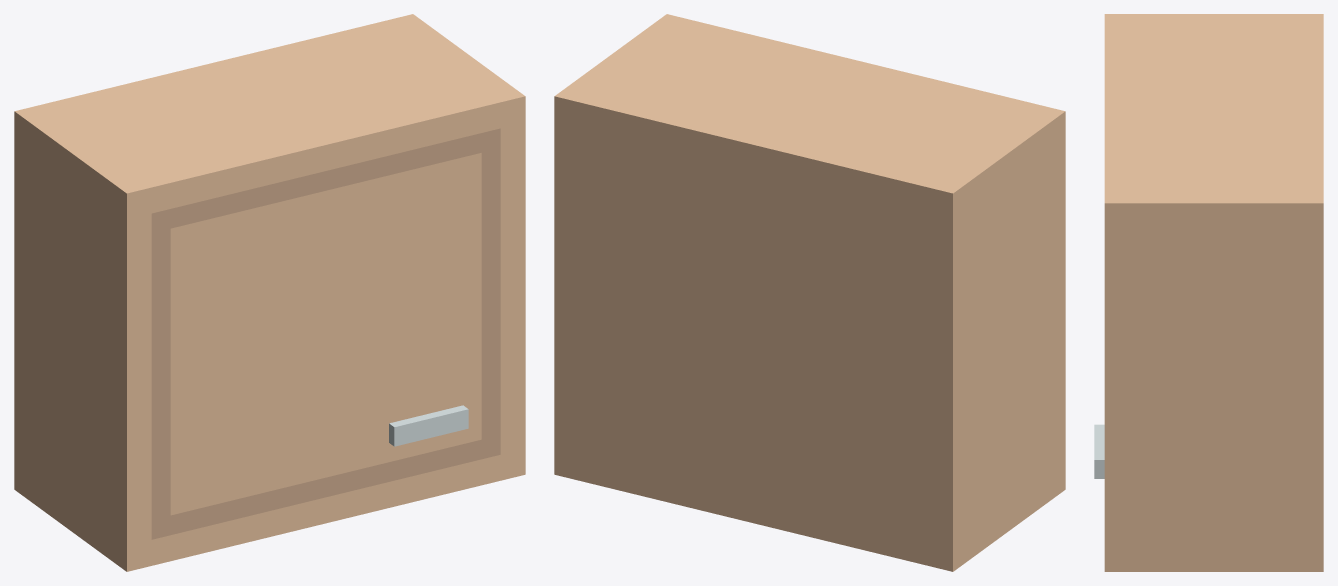
File: kitchenCabinetUpper.glb
The picture shows the model from 3 angles, left to right: view 1: azimuth 30°, elevation 25°; view 2: azimuth 150°, elevation 25°; view 3: azimuth 270°, elevation 25°; orthographic projection. The views are drawn at different scales.
Parts seen in each view (by area): view 1: kitchenCabinetUpper(Clone), door; view 2: kitchenCabinetUpper(Clone); view 3: kitchenCabinetUpper(Clone), door.
Boxes of the visible parts, box(x1,y1,x2,y2) form: kitchenCabinetUpper(Clone): box(14, 14, 525, 571); door: box(151, 128, 500, 539); kitchenCabinetUpper(Clone): box(554, 14, 1065, 571); kitchenCabinetUpper(Clone): box(1104, 14, 1323, 571); door: box(1094, 424, 1104, 478).
Bounding box in the file's own units: 0.8729 × 0.7917 × 0.4466.
Materials: 3 (3 with a texture image).
